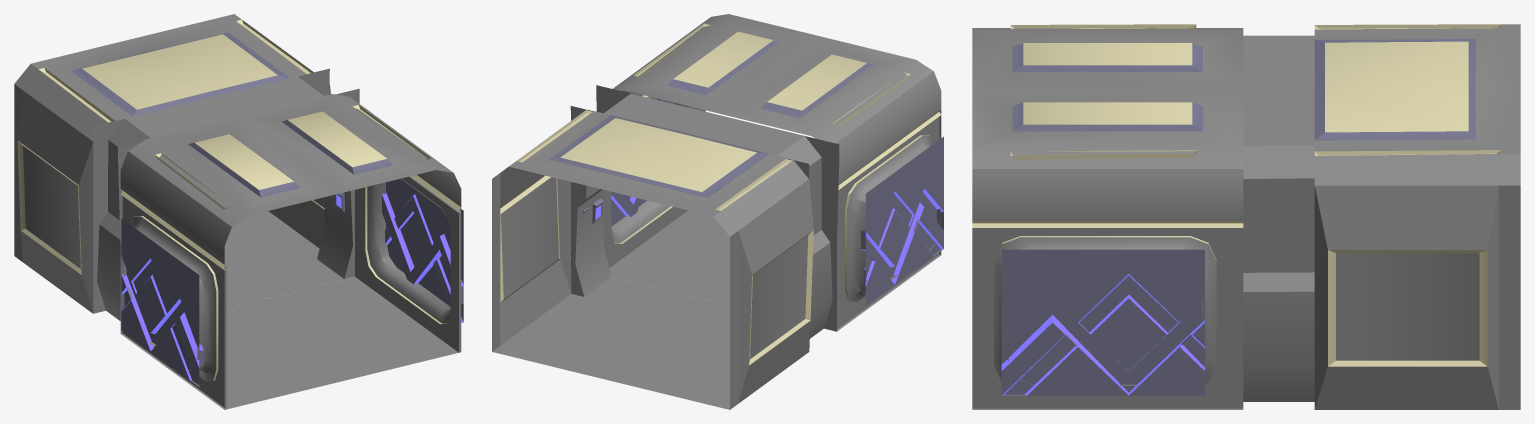
The model's file is space room.fbx.
The picture shows the model from 3 angles, left to right: view 1: azimuth 30°, elevation 25°; view 2: azimuth 150°, elevation 25°; view 3: azimuth 270°, elevation 25°; orthographic projection. The views are drawn at different scales.
Parts seen in each view (by area): view 1: Cube.006, Cube.003, Cube.004, Plane, Plane.001; view 2: Cube.003, Cube.006, Cube.004, Plane, Plane.001; view 3: Cube.003, Cube.006, Cube.004, Plane, Plane.001.
Part boxes in pixels (box(x1,y1,x2,y2)): Cube.006: box(120, 94, 461, 409); Cube.003: box(14, 14, 330, 313); Cube.004: box(92, 68, 359, 320); Plane: box(121, 192, 463, 386); Plane.001: box(121, 178, 463, 332); Cube.003: box(492, 109, 813, 409); Cube.006: box(603, 14, 941, 331); Cube.004: box(570, 85, 839, 338); Plane: box(611, 101, 943, 305); Plane.001: box(626, 99, 943, 265); Cube.003: box(1314, 24, 1520, 409); Cube.006: box(972, 24, 1243, 409); Cube.004: box(1243, 35, 1314, 401); Plane: box(1001, 250, 1204, 395); Plane.001: box(1002, 249, 1204, 370).
Bounding box in the file's own units: 441 × 306 × 607.
